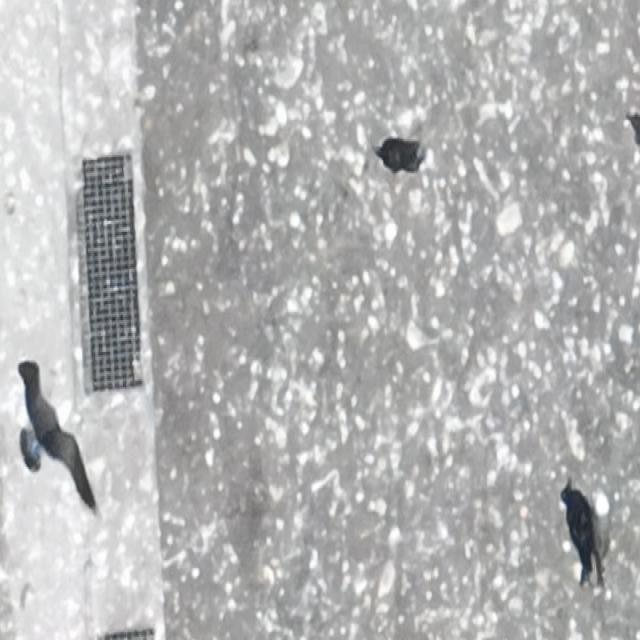F: (10, 359, 90, 502)
umineko: (590, 490, 609, 569)
